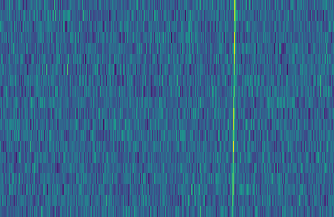signal: (229, 0, 240, 217)
